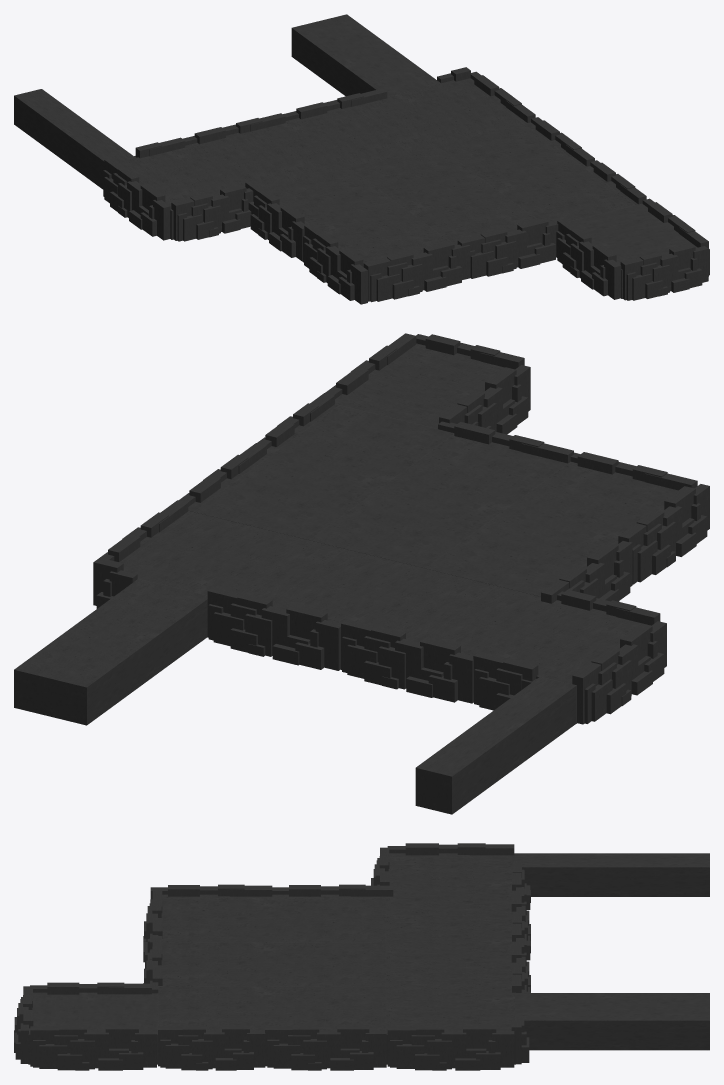
File: stage1_1_5.FBX
The picture shows the model from 3 angles, top to bottom: view 1: azimuth 30°, elevation 25°; view 2: azimuth 150°, elevation 25°; view 3: azimuth 270°, elevation 25°; orthographic projection. The views are drawn at different scales.
Parts seen in each view (by area): view 1: Box4548, Box6500, Box6632, Box6631, Box5008, Box6666, Box6636, Box474, Box6740, Box6755, Box6741, Box6743 (+1 smaller); view 2: Box4548, Box6500, Box6632, Box6631, Box5008, Box6771, Box6786, Box6785, Box6770, Box6663, Box6777, Box6792 (+1 smaller); view 3: Box4548, Box6500, Box6632, Box6631, Box5008, Box6681, Box6680, Box6726, Box6725, Box6696, Box6695, Box6711 (+30 smaller).
Boxes of the visible parts, x1,y1,x2,y2 form: Box4548: (264, 122, 641, 266); Box6500: (119, 78, 530, 239); Box6632: (291, 14, 440, 96); Box6631: (14, 89, 135, 189); Box5008: (570, 204, 697, 298); Box6666: (153, 200, 170, 240); Box6636: (350, 264, 367, 304); Box474: (604, 259, 621, 299); Box6740: (423, 241, 454, 268); Box6755: (517, 218, 548, 245); Box6741: (451, 244, 470, 279); Box6743: (376, 274, 400, 301); Box4548: (188, 404, 678, 596); Box6500: (119, 511, 650, 723); Box6632: (14, 578, 207, 725); Box6631: (415, 676, 576, 814); Box5008: (335, 343, 504, 428); Box6771: (315, 620, 340, 670); Box6786: (449, 652, 473, 703); Box6785: (420, 637, 460, 672); Box6770: (286, 605, 327, 639); Box6663: (572, 662, 601, 724); Box6777: (245, 613, 272, 656); Box6792: (378, 646, 405, 689); Box4548: (157, 894, 386, 1064); Box6500: (386, 853, 515, 1064); Box6632: (515, 993, 709, 1050); Box6631: (515, 853, 709, 896); Box5008: (28, 992, 157, 1064); Box6681: (492, 1030, 514, 1067); Box6680: (463, 1025, 496, 1050); Box6726: (135, 1030, 156, 1067); Box6725: (105, 1025, 138, 1050); Box6696: (365, 1030, 386, 1067); Box6695: (337, 1025, 369, 1050); Box6711: (247, 1030, 265, 1067).
Size of the model in its own units: 2220 by 3363 by 199.
1 material, 1 textured.
